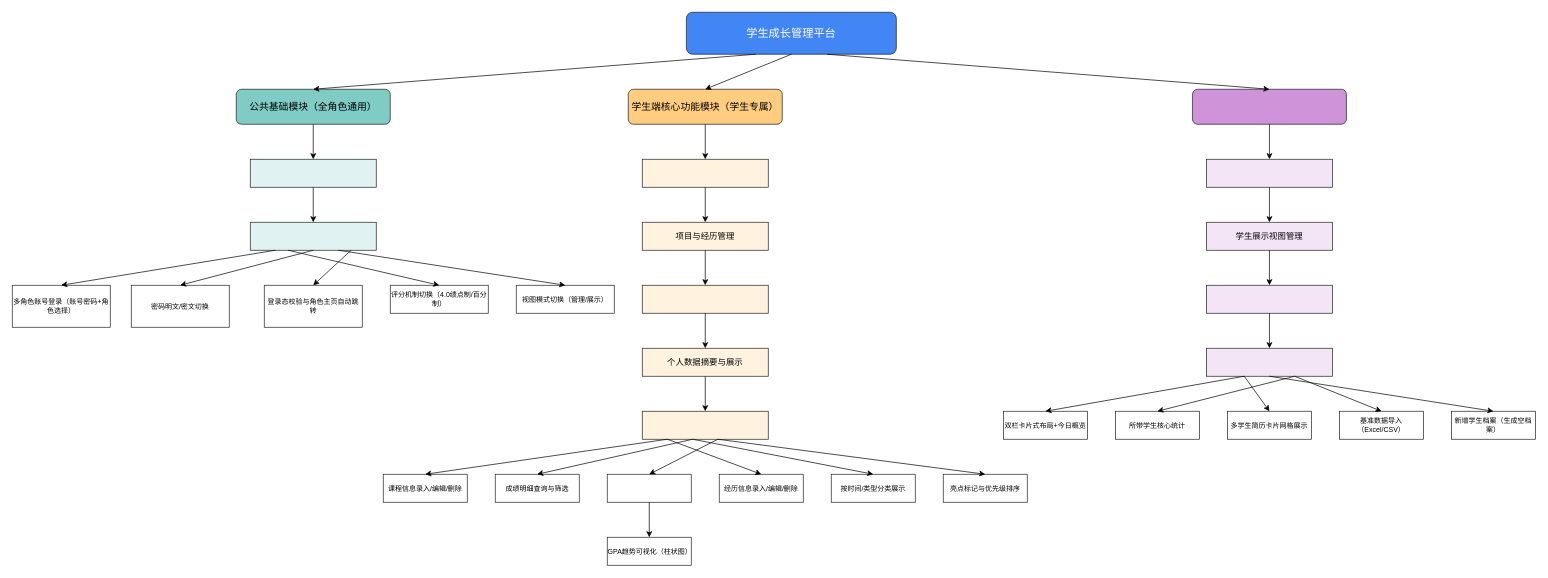
This 1548x578 diagram has some shape labels left out. The centre of each missing label's shape, as x and y in pixels:
"个人简历生成与管理" belongs at pixel 705 299.
"大众数据对比分析" belongs at pixel 705 425.
"学期/整体GPA自动计算" belongs at pixel 649 488.
"学生数据批量对比分析" belongs at pixel 1269 299.
"学生档案管理" belongs at pixel 1269 362.
"教师工作台首页" belongs at pixel 1269 173.
"教师端核心功能模块（教师专属）" belongs at pixel 1269 106.
"用户登录与身份认证" belongs at pixel 313 173.
"系统基础配置" belongs at pixel 313 236.
"课程与成绩管理（GPA自动计算）" belongs at pixel 705 173.
